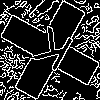K: (25, 25, 76, 81)
